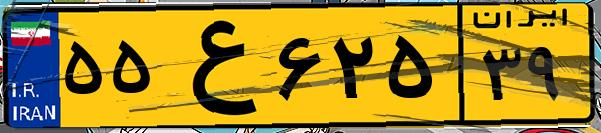2: (330, 28, 385, 110)
3: (475, 38, 525, 113)
5: (385, 28, 445, 110), (57, 26, 110, 100), (110, 28, 158, 98)
6: (270, 28, 330, 110)
9: (525, 38, 570, 115)
ع: (158, 12, 270, 120)
